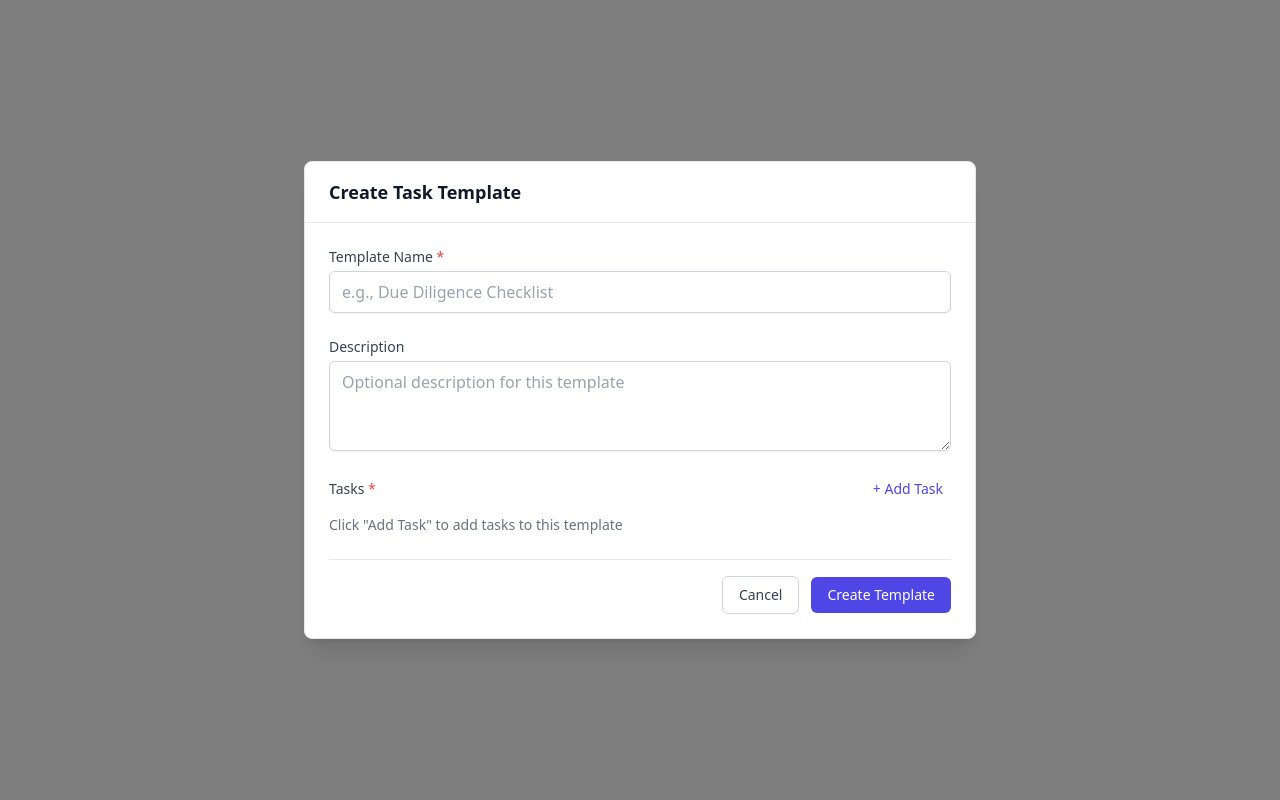
TaskTemplateModal › allows adding tasks to the template
The width and height of the screenshot is (1280, 800).
Click the button with aria-label "add new task to template" at (908, 489), box [865,475,951,503]
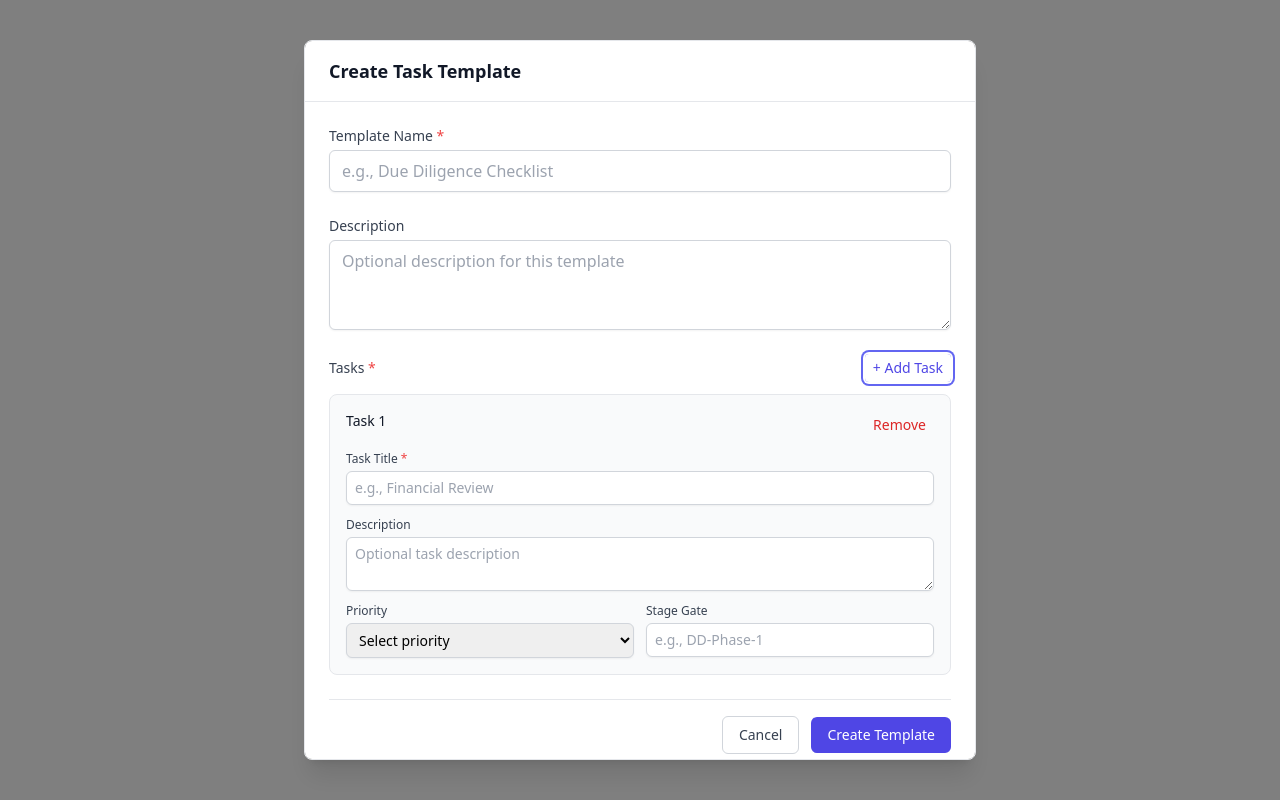
expect the field labelled "Task Title *" is shown: met, box [346,471,934,505]
